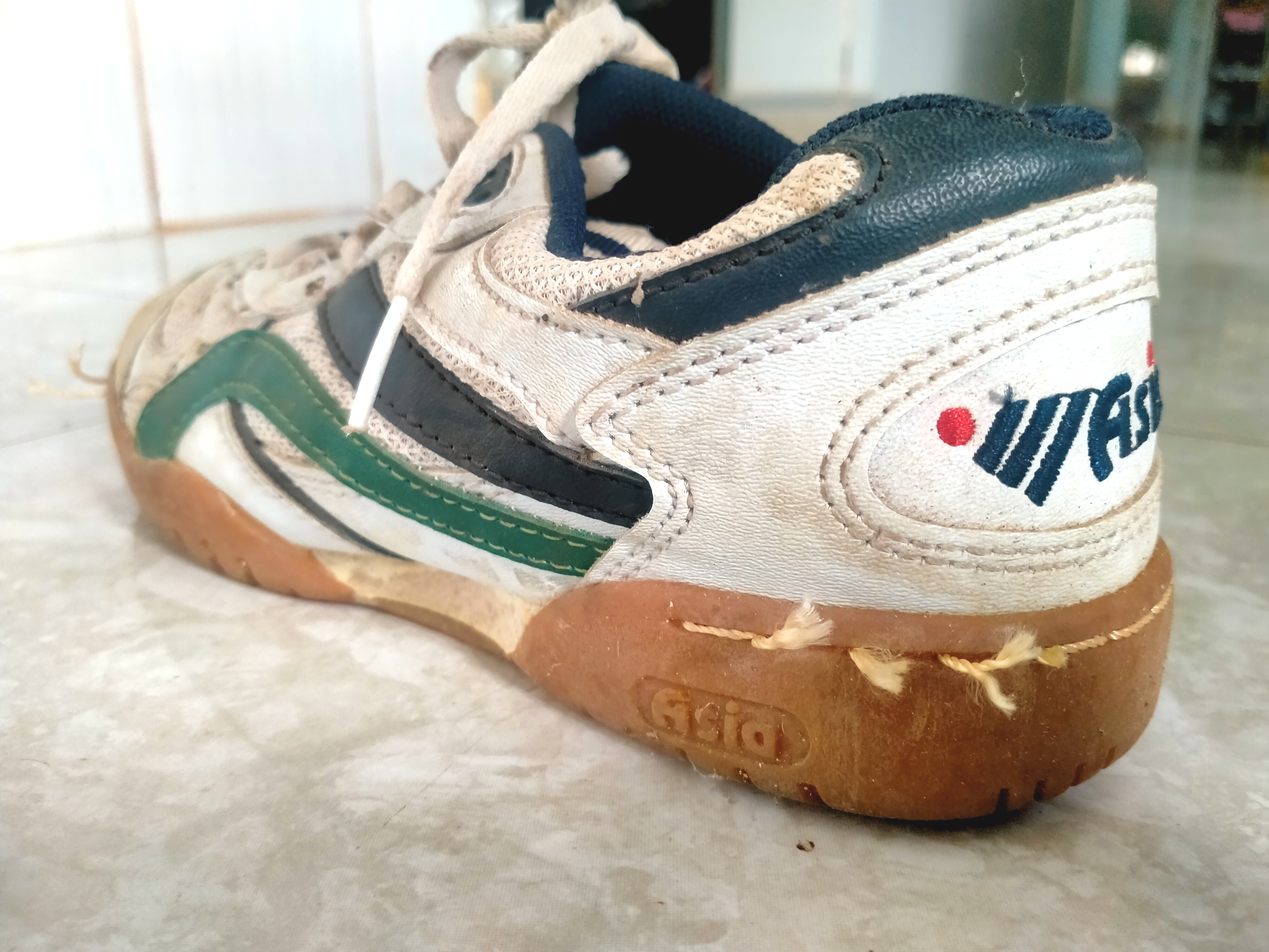broken: (758, 620, 1052, 695)
